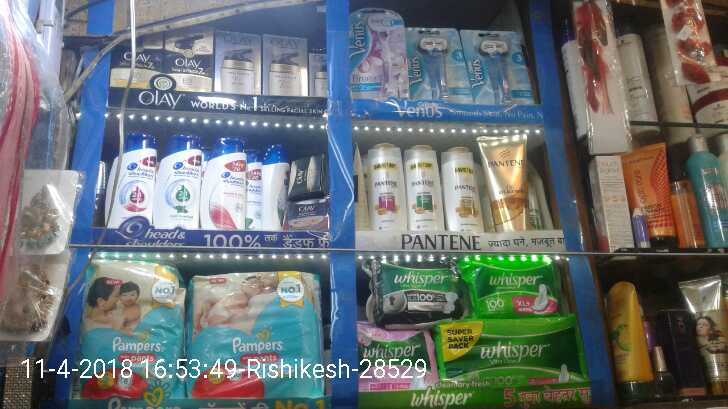venus: (352, 6, 408, 97), (469, 30, 533, 104), (408, 30, 469, 97)
